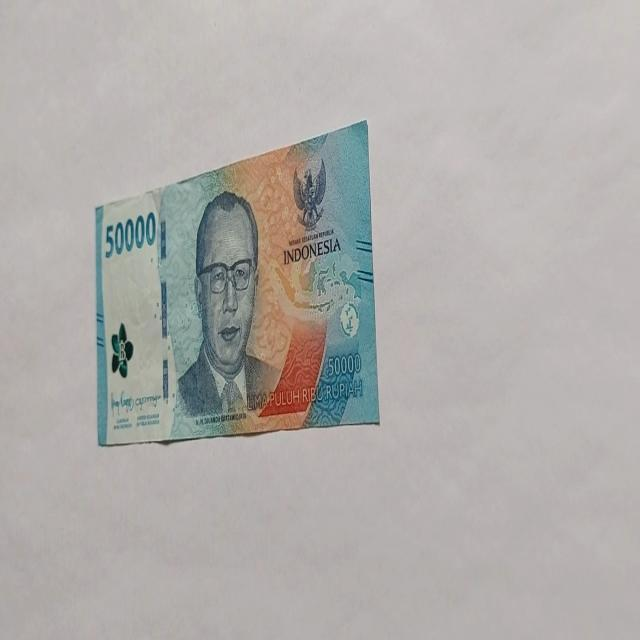lima puluh ribu rupiah: (94, 118, 380, 447), (173, 188, 281, 422)
